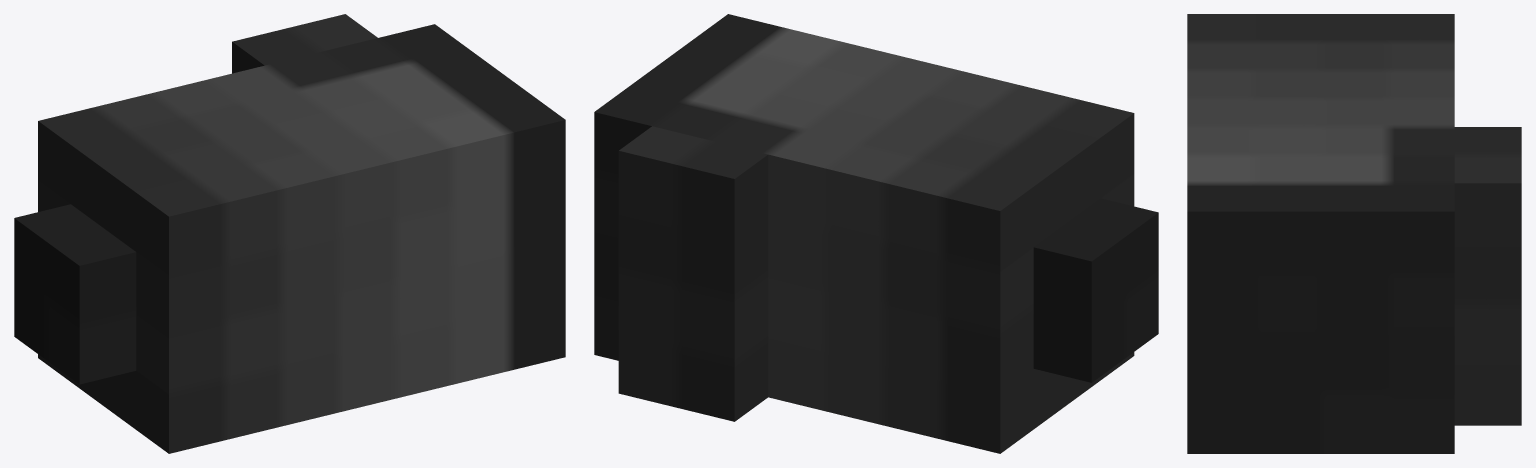
Rendered from Shoulder081.fbx.
3 views of the same model, side by side, from view 1: azimuth 30°, elevation 25°; view 2: azimuth 150°, elevation 25°; view 3: azimuth 270°, elevation 25° (orthographic). The views are drawn at different scales.
Visible parts, largest first — view 1: Shoulder081; view 2: Shoulder081; view 3: Shoulder081.
Part boxes in pixels (x1,y1,x2,y2): Shoulder081: (14,14,565,453); Shoulder081: (594,14,1158,453); Shoulder081: (1187,14,1521,453).
Size of the model in its own units: 8 by 4 by 5.
